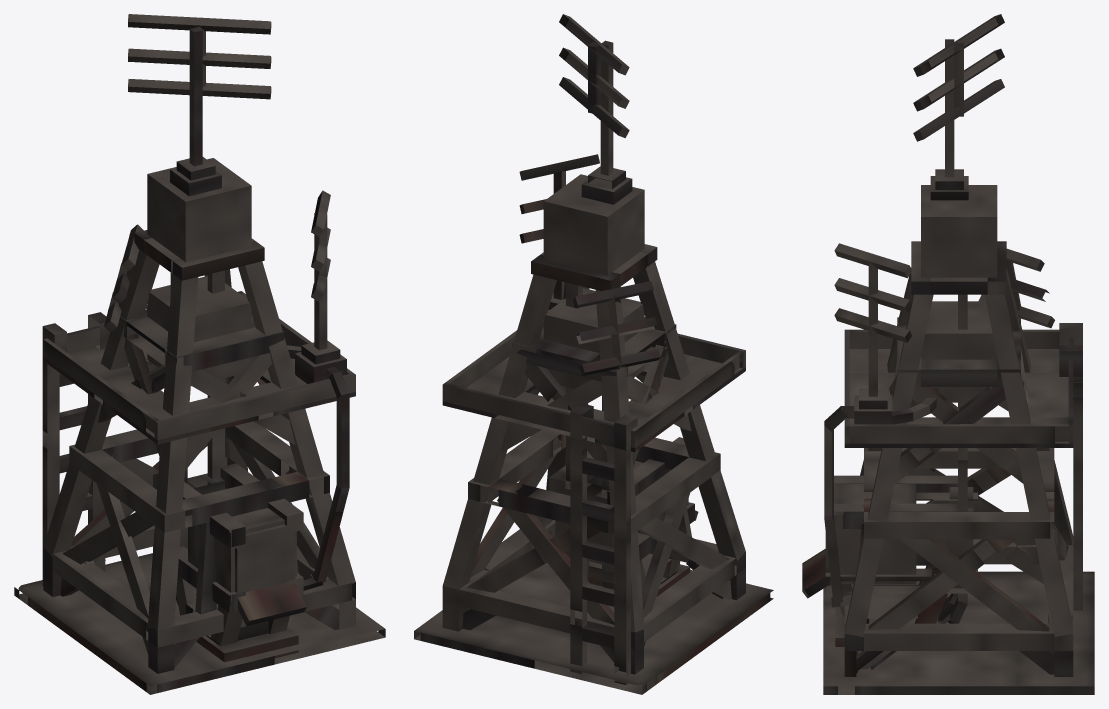
Rendered from arraytowerlarge.obj.
3 renders of one model, left to right at view 1: azimuth 30°, elevation 25°; view 2: azimuth 150°, elevation 25°; view 3: azimuth 270°, elevation 25°, orthographic. The views are drawn at different scales.
Parts seen in each view (by area): view 1: cube; view 2: cube; view 3: cube.
Boxes of the visible parts, x1,y1,x2,y2 form: cube: [14, 14, 385, 694]; cube: [414, 14, 773, 694]; cube: [802, 14, 1094, 694].
Size of the model in its own units: 3.56 by 8.67 by 3.84.
